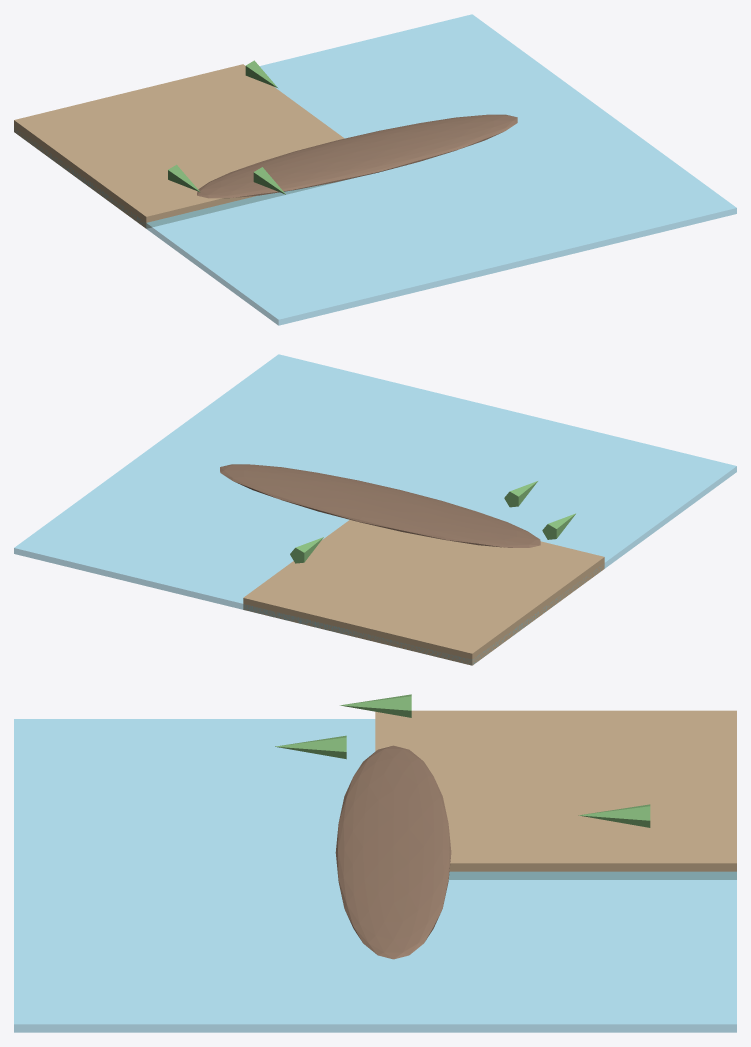
The model's file is shore_corner_v1.glb.
3 views of the same model, one above another, from view 1: azimuth 30°, elevation 25°; view 2: azimuth 150°, elevation 25°; view 3: azimuth 270°, elevation 25° (orthographic). The views are drawn at different scales.
Parts seen in each view (by area): view 1: water_base, shore_corner_land, rounded_wet_corner_transition; view 2: water_base, shore_corner_land, rounded_wet_corner_transition; view 3: water_base, shore_corner_land, rounded_wet_corner_transition, corner_grass_2, corner_grass_1, corner_grass_0.
Boxes of the visible parts, left/top/right/bottom form: water_base: left=14, top=14, right=736, bottom=325; shore_corner_land: left=14, top=64, right=344, bottom=228; rounded_wet_corner_transition: left=197, top=114, right=517, bottom=198; water_base: left=14, top=354, right=736, bottom=664; shore_corner_land: left=243, top=520, right=604, bottom=665; rounded_wet_corner_transition: left=220, top=464, right=540, bottom=547; water_base: left=14, top=719, right=736, bottom=1032; shore_corner_land: left=375, top=710, right=736, bottom=879; rounded_wet_corner_transition: left=335, top=745, right=451, bottom=959; corner_grass_2: left=578, top=804, right=650, bottom=827; corner_grass_1: left=275, top=735, right=346, bottom=759; corner_grass_0: left=340, top=694, right=411, bottom=717.
Bounding box in the file's own units: 2 × 0.1833 × 2.
